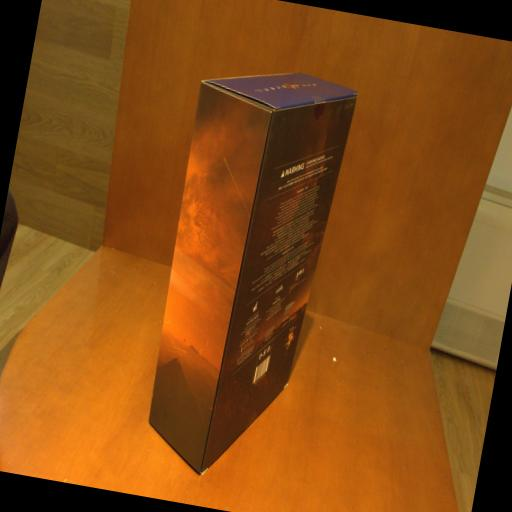superman: (134, 56, 360, 490)
